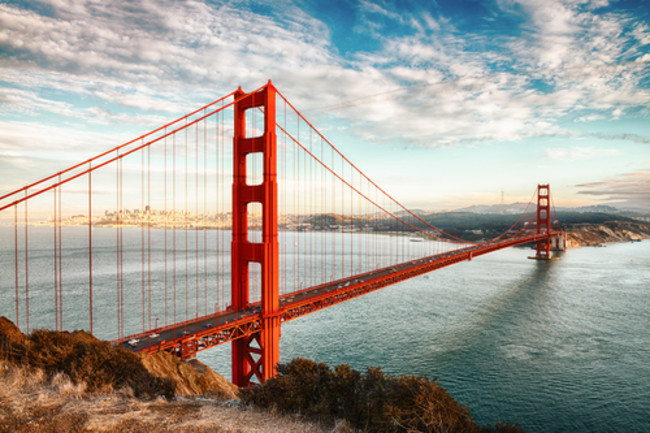bridge: (1, 79, 568, 391)
